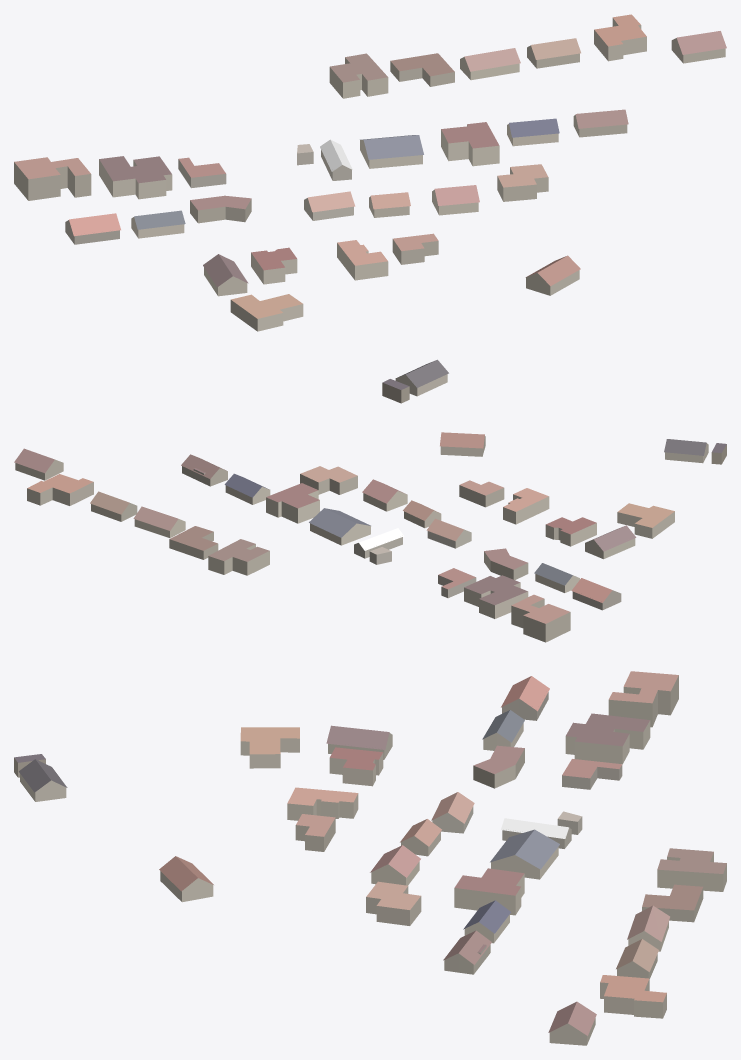
The picture shows the model from 3 angles, top to bottom: view 1: azimuth 30°, elevation 25°; view 2: azimuth 150°, elevation 25°; view 3: azimuth 270°, elevation 25°; orthographic projection. The views are drawn at different scales.
Visible parts, largest first — view 1: tuile; view 2: tuile; view 3: tuile.
Boxes of the visible parts, x1=… form: tuile: x1=14, y1=14, x2=726, y2=403; tuile: x1=14, y1=432, x2=726, y2=642; tuile: x1=14, y1=671, x2=726, y2=1045.
Size of the model in its own units: 256 by 18.75 by 211.
